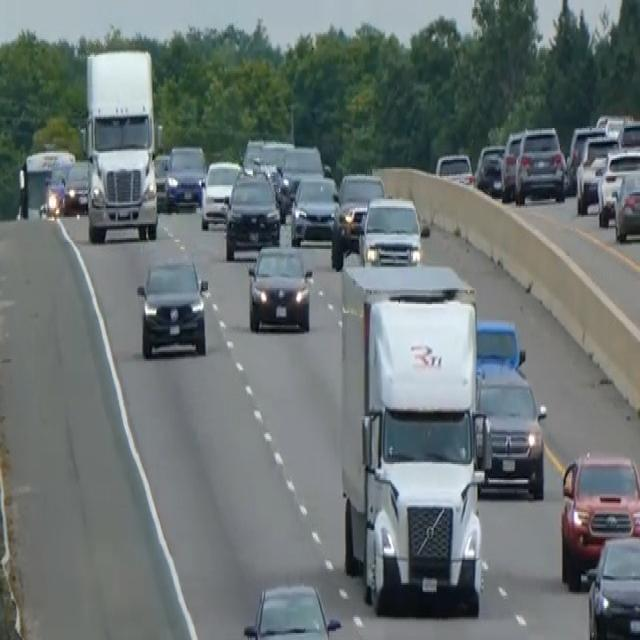car: (559, 448, 639, 588), (475, 359, 547, 498), (136, 256, 209, 359), (247, 240, 313, 332), (241, 580, 342, 638), (586, 532, 639, 638), (223, 165, 280, 258), (331, 169, 385, 265), (358, 194, 424, 265), (514, 124, 566, 204), (289, 171, 340, 245), (574, 134, 617, 214), (597, 146, 639, 226), (199, 156, 241, 230), (475, 314, 525, 372), (164, 142, 206, 210), (565, 123, 606, 192), (279, 142, 324, 196), (612, 165, 639, 242), (499, 128, 524, 201), (474, 142, 505, 196), (254, 137, 293, 176), (63, 156, 89, 214), (435, 149, 473, 187), (152, 150, 170, 204), (617, 117, 639, 151), (242, 135, 264, 165)
lorry: (337, 258, 493, 617), (81, 46, 159, 244)
